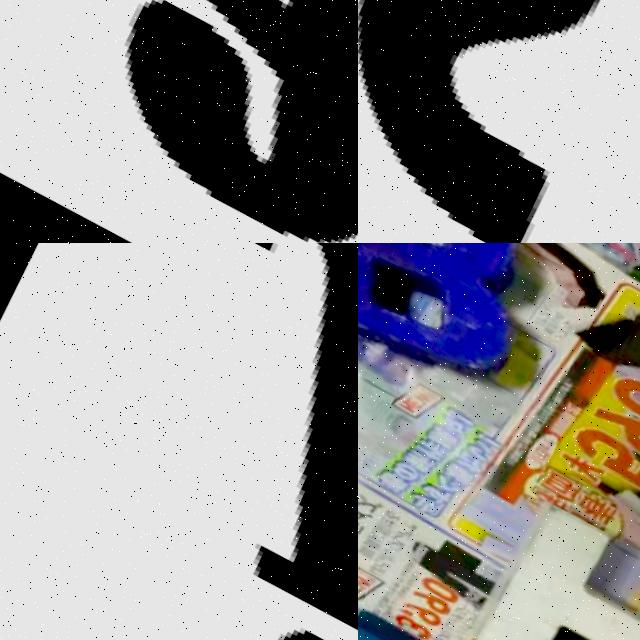A: (0, 0, 358, 243)
B: (358, 243, 567, 408)
H: (453, 496, 640, 640)
J: (0, 243, 358, 640)
S: (358, 0, 640, 243)
